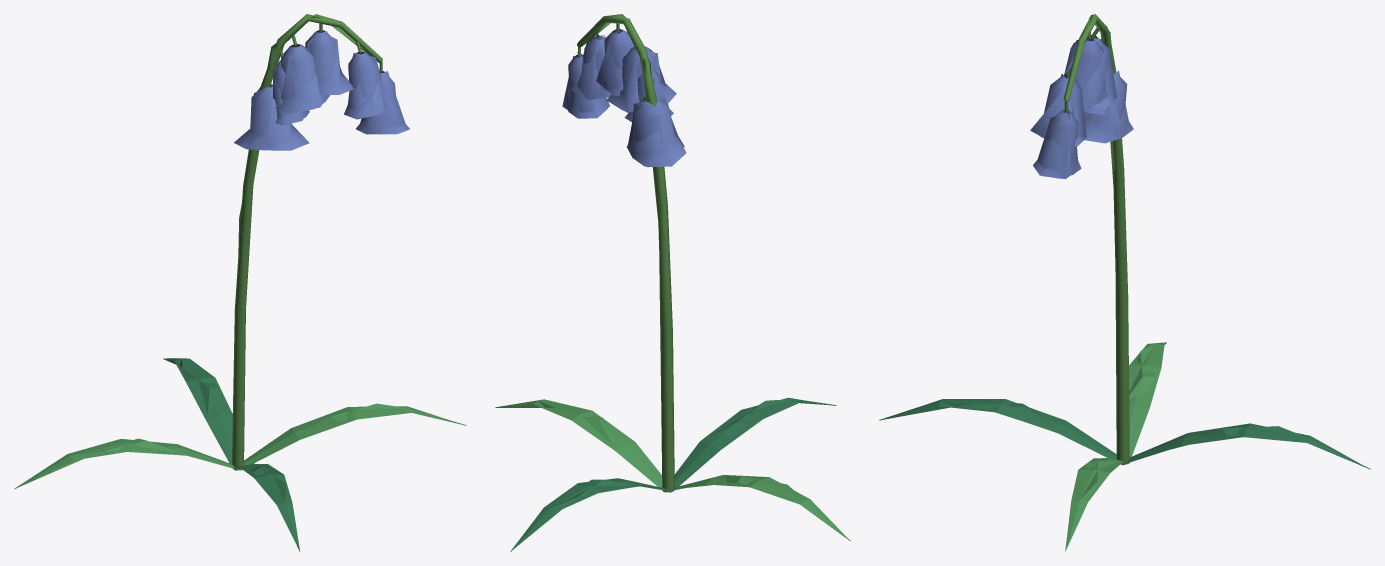
The model's file is bluebell_a.glb.
The picture shows the model from 3 angles, left to right: view 1: azimuth 30°, elevation 25°; view 2: azimuth 150°, elevation 25°; view 3: azimuth 270°, elevation 25°; orthographic projection. The views are drawn at different scales.
Parts seen in each view (by area): view 1: body__far, leaf_nl, petal_blue_nl, stem; view 2: body__far, leaf_nl, petal_blue_nl, stem; view 3: body__far, leaf_nl, stem, petal_blue_nl.
Part boxes in pixels (x1,y1,x2,y2): body__far: (22, 14, 424, 516); leaf_nl: (14, 358, 466, 551); petal_blue_nl: (236, 30, 409, 150); stem: (232, 14, 382, 470); body__far: (499, 14, 825, 545); leaf_nl: (495, 397, 850, 551); petal_blue_nl: (567, 29, 685, 166); stem: (577, 16, 674, 492); body__far: (886, 17, 1324, 513); leaf_nl: (879, 342, 1370, 551); stem: (1063, 14, 1129, 465); petal_blue_nl: (1033, 35, 1133, 178).
Bounding box in the file's own units: 15.68 × 16.71 × 15.58.
